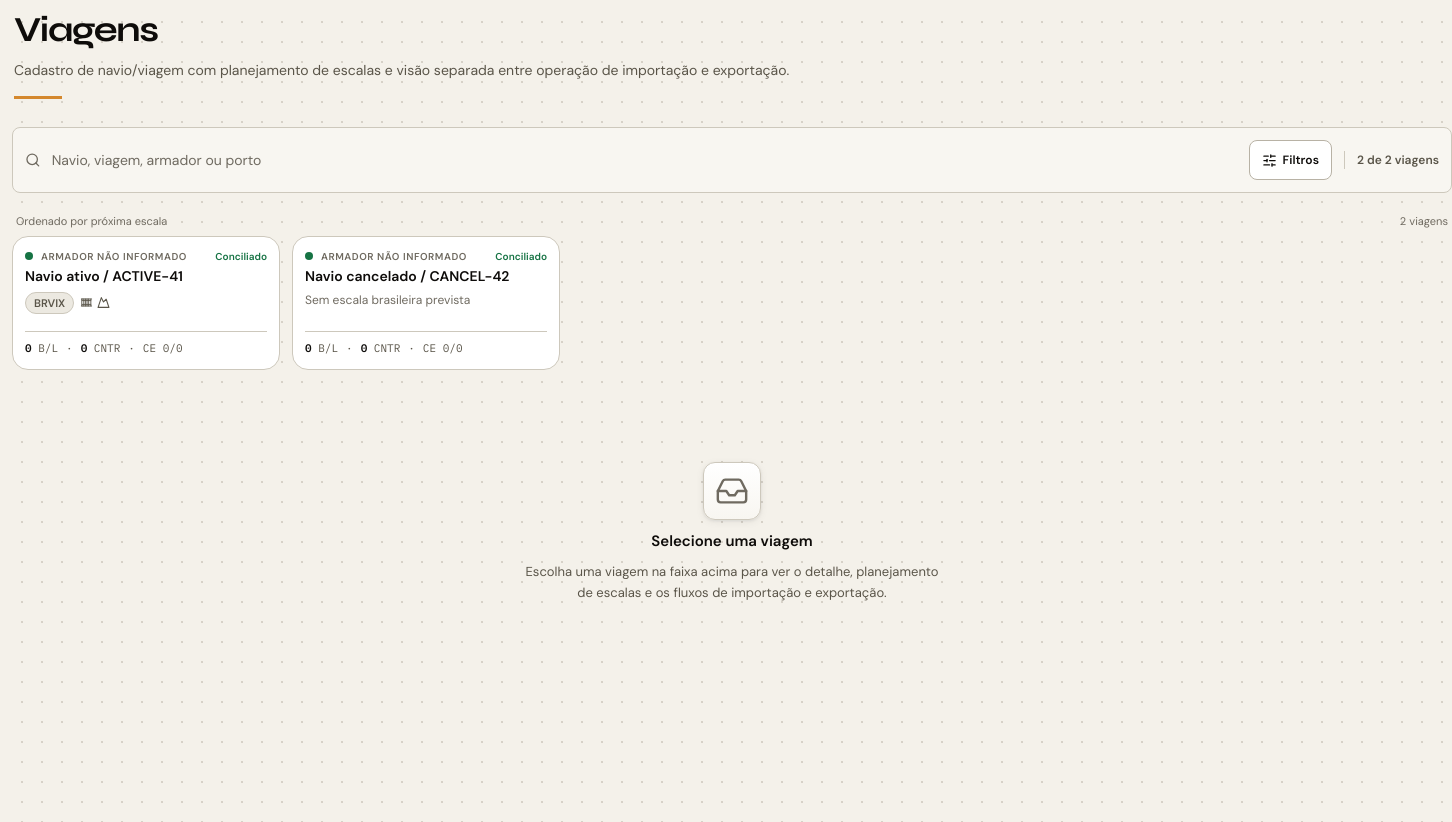
Test case: filtra o rail por viagens canceladas
Click the button "Filtros" at (1290, 160), box x1=1249 y1=140 x2=1332 y2=180
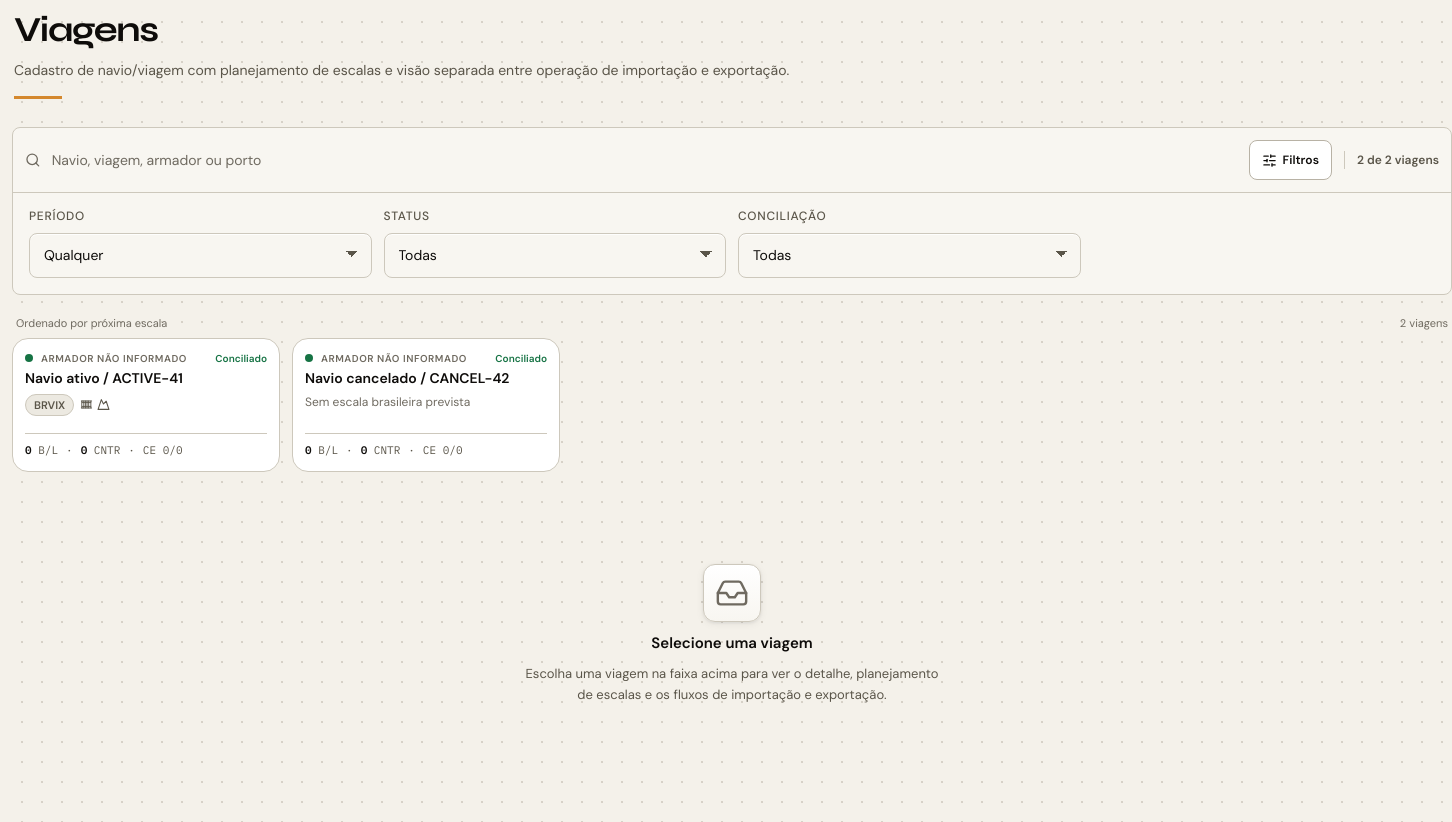
Select "Canceladas" in the dropdown labelled "Status" at (555, 256), box x1=384 y1=233 x2=726 y2=278
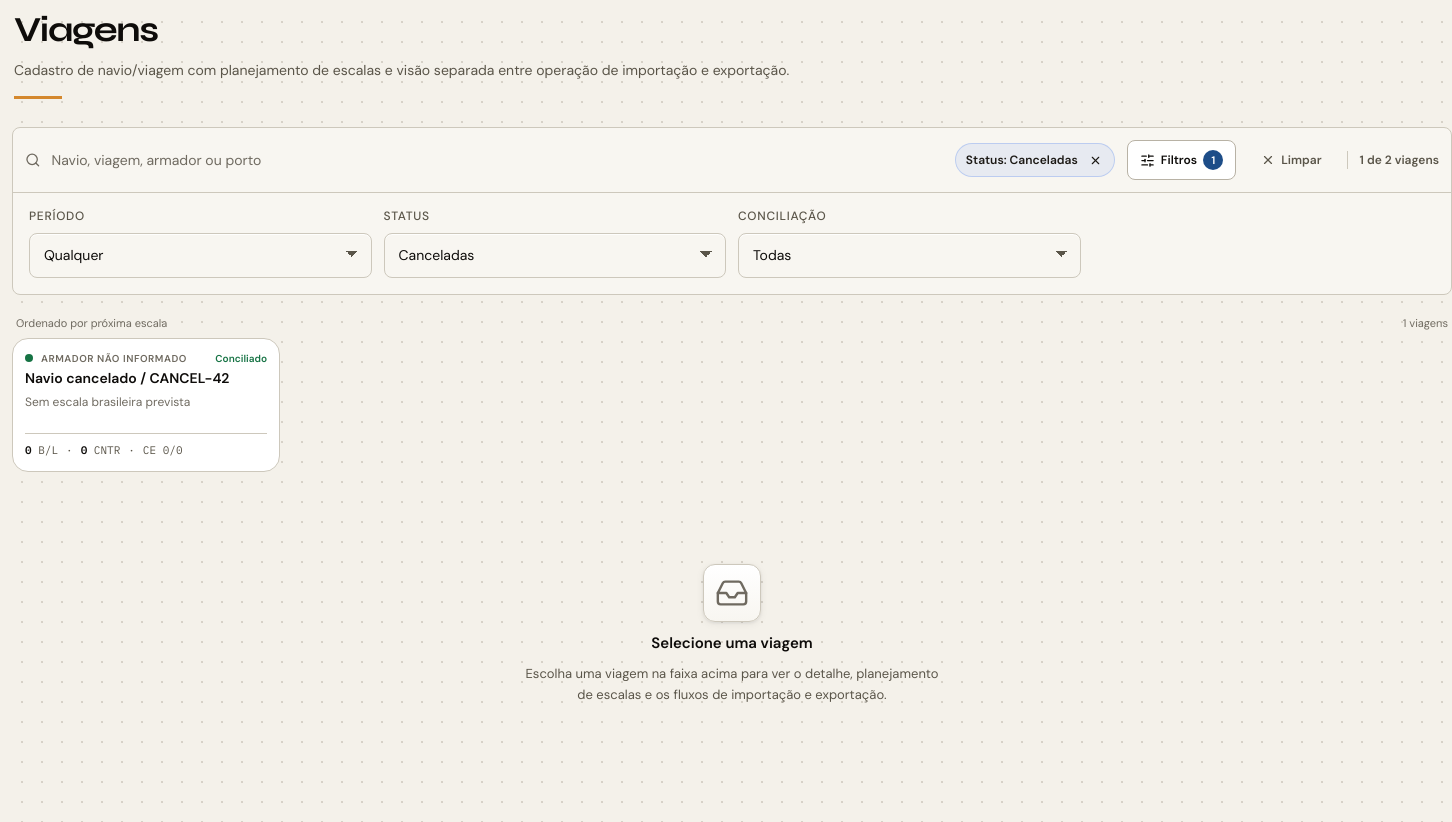
Expected: the text "Navio cancelado / CANCEL-42" is shown, x1=25 y1=368 x2=229 y2=388
Expected: the button "Navio ativo / ACTIVE-41" is gone
